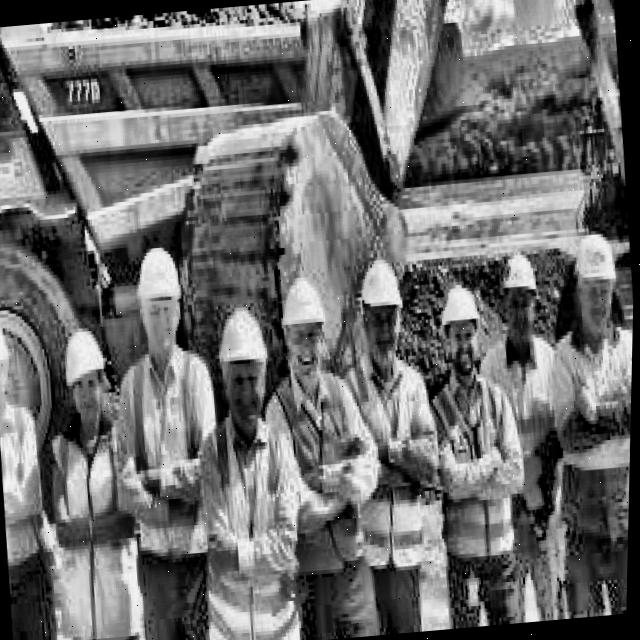dump_truck: (0, 0, 448, 429)
excavator: (162, 0, 640, 471)
